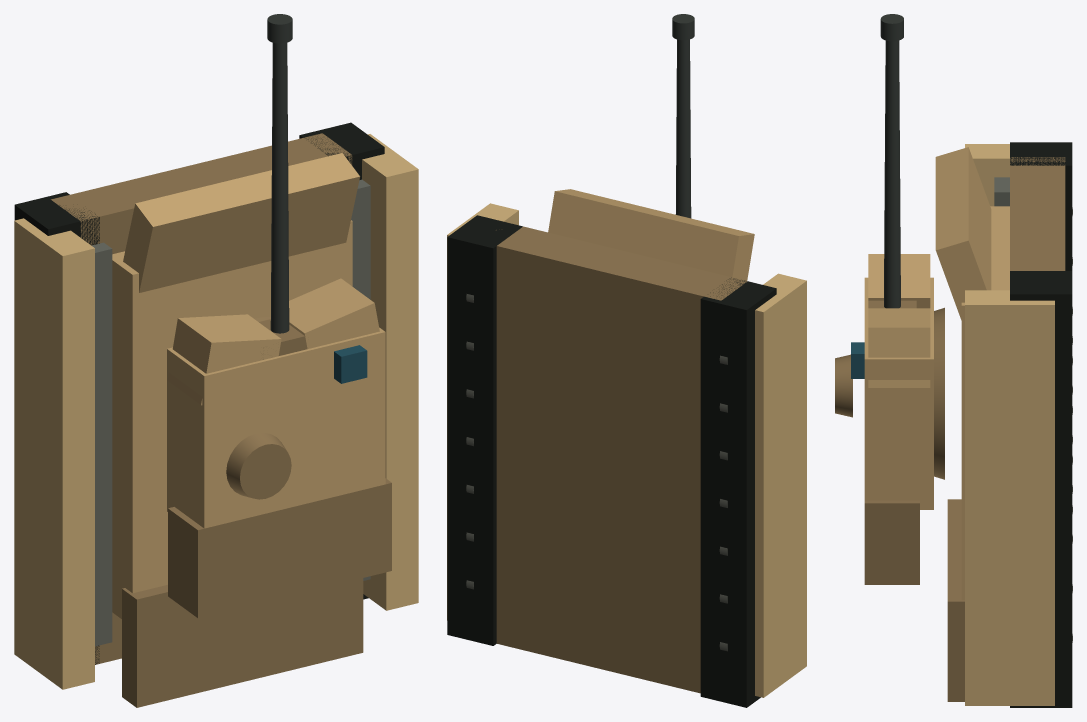
3 views of the same model, side by side, from view 1: azimuth 30°, elevation 25°; view 2: azimuth 150°, elevation 25°; view 3: azimuth 270°, elevation 25° (orthographic). The views are drawn at different scales.
Parts seen in each view (by area): view 1: left_side_skirt, angular_turret_block, hull_upper_deck, rear_engine_deck, turret_rear_bustle, front_glacis_plate, right_side_skirt, hull_lower_slab, left_track_guard, turret_front_cheek_left, barrel_tube, turret_front_cheek_right (+7 smaller); view 2: hull_lower_slab, left_track_rubber, right_track_rubber, left_side_skirt, front_glacis_plate, barrel_tube, right_side_skirt, muzzle_collar; view 3: right_side_skirt, angular_turret_block, right_track_rubber, front_glacis_plate, hull_lower_slab, turret_rear_bustle, barrel_tube, turret_front_cheek_right, rear_engine_deck, hull_upper_deck, left_track_rubber, turret_front_cheek_left (+6 smaller).
Boxes of the visible parts, x1=… form: left_side_skirt: x1=14, y1=218, x2=94, y2=689; angular_turret_block: x1=167, y1=327, x2=385, y2=528; hull_upper_deck: x1=112, y1=220, x2=352, y2=618; rear_engine_deck: x1=122, y1=578, x2=363, y2=707; turret_rear_bustle: x1=168, y1=478, x2=391, y2=618; front_glacis_plate: x1=123, y1=153, x2=359, y2=292; right_side_skirt: x1=362, y1=134, x2=418, y2=610; hull_lower_slab: x1=51, y1=133, x2=352, y2=664; left_track_guard: x1=91, y1=242, x2=112, y2=646; turret_front_cheek_left: x1=167, y1=314, x2=281, y2=405; barrel_tube: x1=270, y1=42, x2=289, y2=333; turret_front_cheek_right: x1=289, y1=278, x2=379, y2=348; hull_lower_slab: x1=496, y1=226, x2=747, y2=693; left_track_rubber: x1=700, y1=277, x2=776, y2=707; right_track_rubber: x1=447, y1=215, x2=522, y2=645; left_side_skirt: x1=755, y1=273, x2=806, y2=697; front_glacis_plate: x1=548, y1=189, x2=754, y2=280; barrel_tube: x1=675, y1=39, x2=691, y2=218; right_side_skirt: x1=447, y1=203, x2=518, y2=620; muzzle_collar: x1=672, y1=14, x2=694, y2=40; right_side_skirt: x1=965, y1=290, x2=1054, y2=705; angular_turret_block: x1=864, y1=277, x2=933, y2=509; right_track_rubber: x1=1010, y1=271, x2=1072, y2=707; front_glacis_plate: x1=935, y1=147, x2=991, y2=320; hull_lower_slab: x1=1010, y1=157, x2=1065, y2=270; turret_rear_bustle: x1=864, y1=500, x2=919, y2=584; barrel_tube: x1=884, y1=40, x2=900, y2=308; turret_front_cheek_right: x1=868, y1=308, x2=930, y2=387; rear_engine_deck: x1=947, y1=499, x2=964, y2=701; hull_upper_deck: x1=961, y1=206, x2=1009, y2=600; left_track_rubber: x1=1010, y1=142, x2=1072, y2=270; turret_front_cheek_left: x1=868, y1=254, x2=930, y2=308.
Bounding box in the file's own units: 55 × 101 × 34.4.
